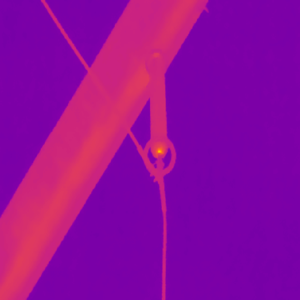insulator: (148, 53, 169, 155)
